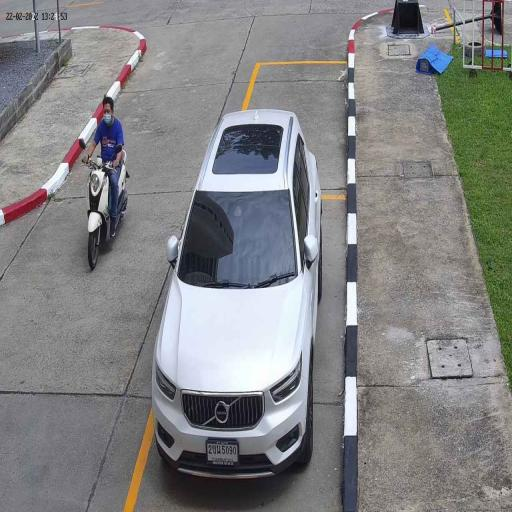car: (152, 109, 324, 483)
motorcycle: (86, 160, 130, 270)
